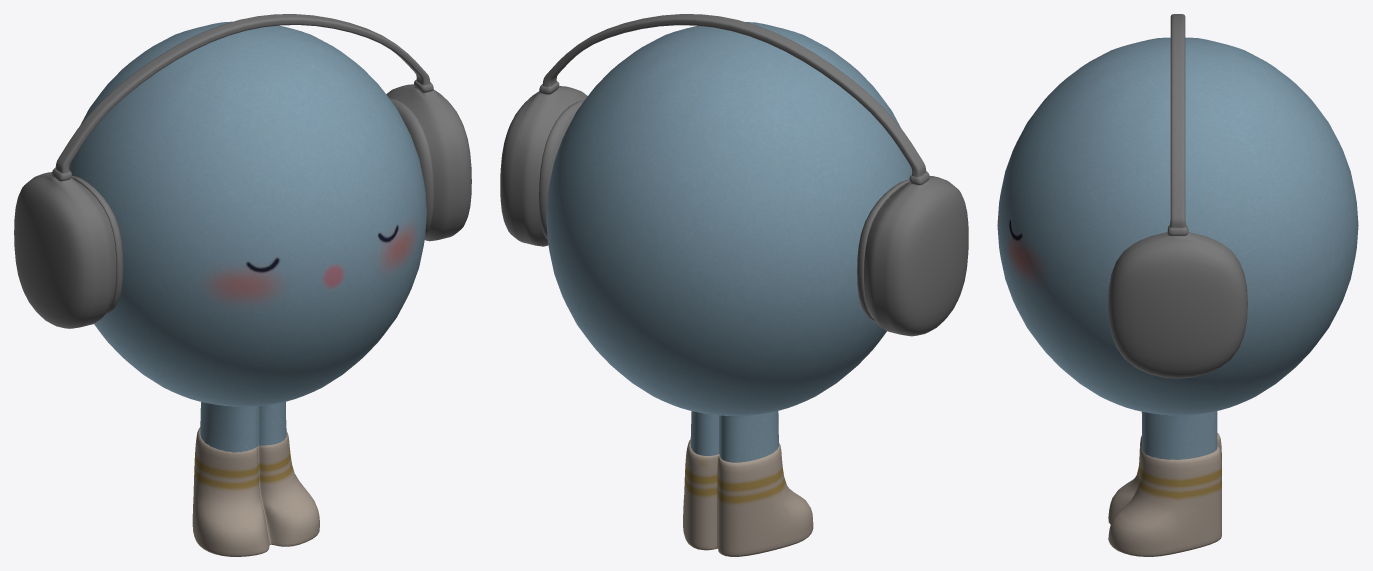
3 views of the same model, side by side, from view 1: azimuth 30°, elevation 25°; view 2: azimuth 150°, elevation 25°; view 3: azimuth 270°, elevation 25° (orthographic). The views are drawn at different scales.
Visible parts, largest first — view 1: base008, Sphere004, sockes; view 2: base008, Sphere004, sockes; view 3: base008, Sphere004, sockes.
Boxes of the visible parts, bbox=[...] form: base008: bbox=[69, 21, 426, 452]; Sphere004: bbox=[14, 14, 471, 328]; sockes: bbox=[192, 427, 319, 556]; base008: bbox=[546, 22, 912, 462]; Sphere004: bbox=[500, 14, 968, 336]; sockes: bbox=[683, 439, 813, 556]; base008: bbox=[997, 37, 1358, 459]; Sphere004: bbox=[1108, 14, 1247, 378]; sockes: bbox=[1108, 433, 1221, 556].
Bounding box in the file's own units: 0.7198 × 0.8319 × 0.5508.
Materials: 3 (3 with a texture image).
